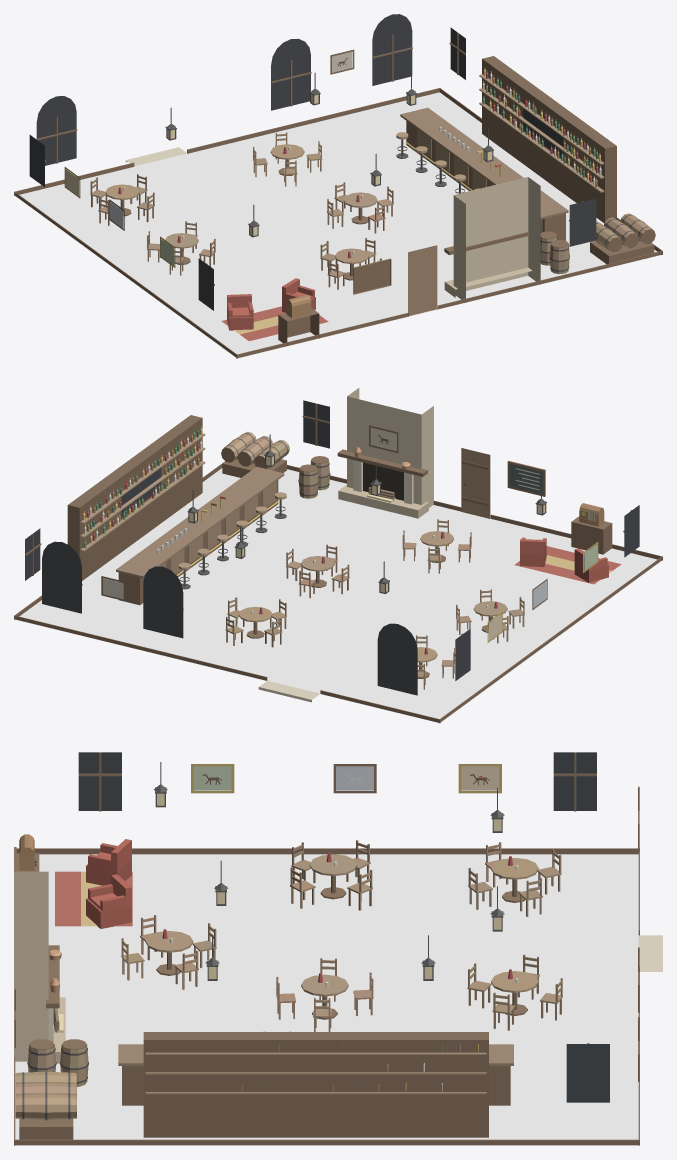
File: SM_BM_BH_Osteria_Taproom.glb
3 views of the same model, one above another, from view 1: azimuth 30°, elevation 25°; view 2: azimuth 150°, elevation 25°; view 3: azimuth 270°, elevation 25° (orthographic). The views are drawn at different scales.
Visible parts, largest first — view 1: SM_BM_BH_Osteria_Taproom; view 2: SM_BM_BH_Osteria_Taproom; view 3: SM_BM_BH_Osteria_Taproom.
Boxes of the visible parts, x1,y1,x2,y2 form: SM_BM_BH_Osteria_Taproom: (14,14,662,358); SM_BM_BH_Osteria_Taproom: (14,388,662,723); SM_BM_BH_Osteria_Taproom: (14,752,662,1145).
Bounding box in the file's own units: 16 × 3.63 × 15.03.
